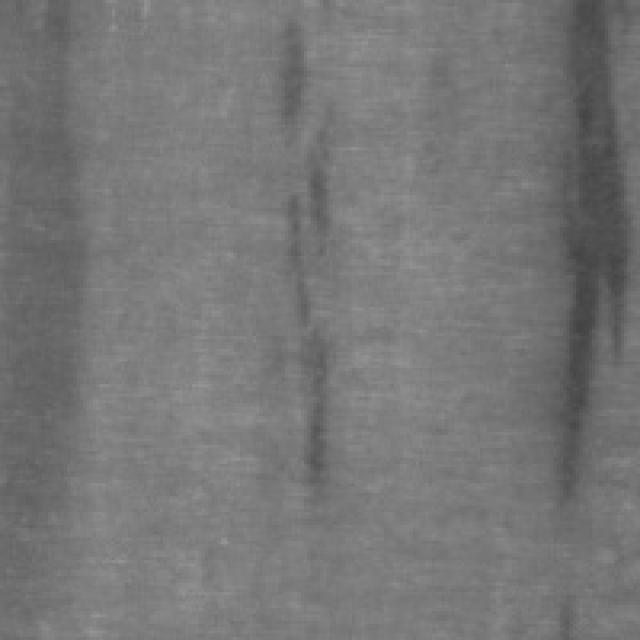inclusion: (534, 3, 634, 522), (0, 16, 96, 528), (266, 90, 342, 518), (262, 10, 304, 144)
